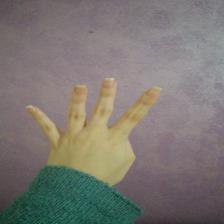four: (16, 76, 164, 184)
